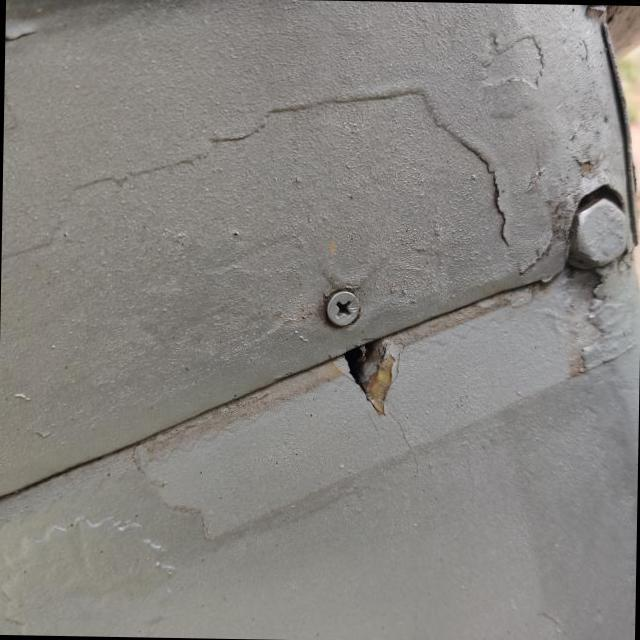Crack: (314, 324, 431, 440)
